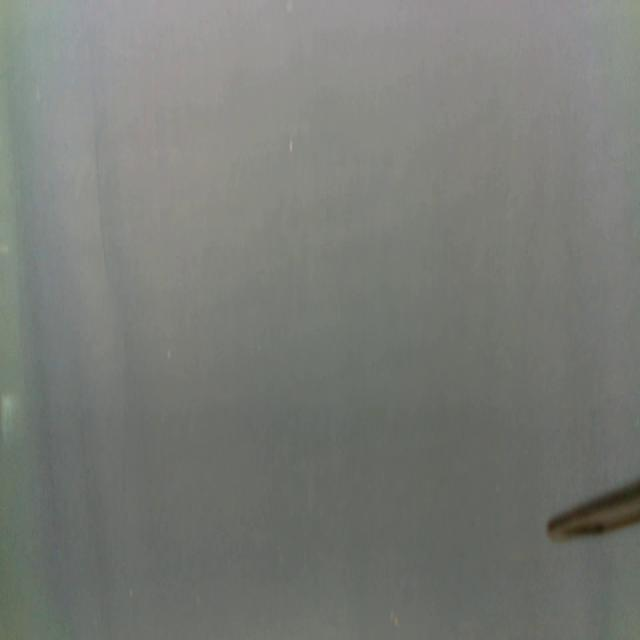crease: (92, 130, 110, 278)
hole: (288, 137, 294, 155)
